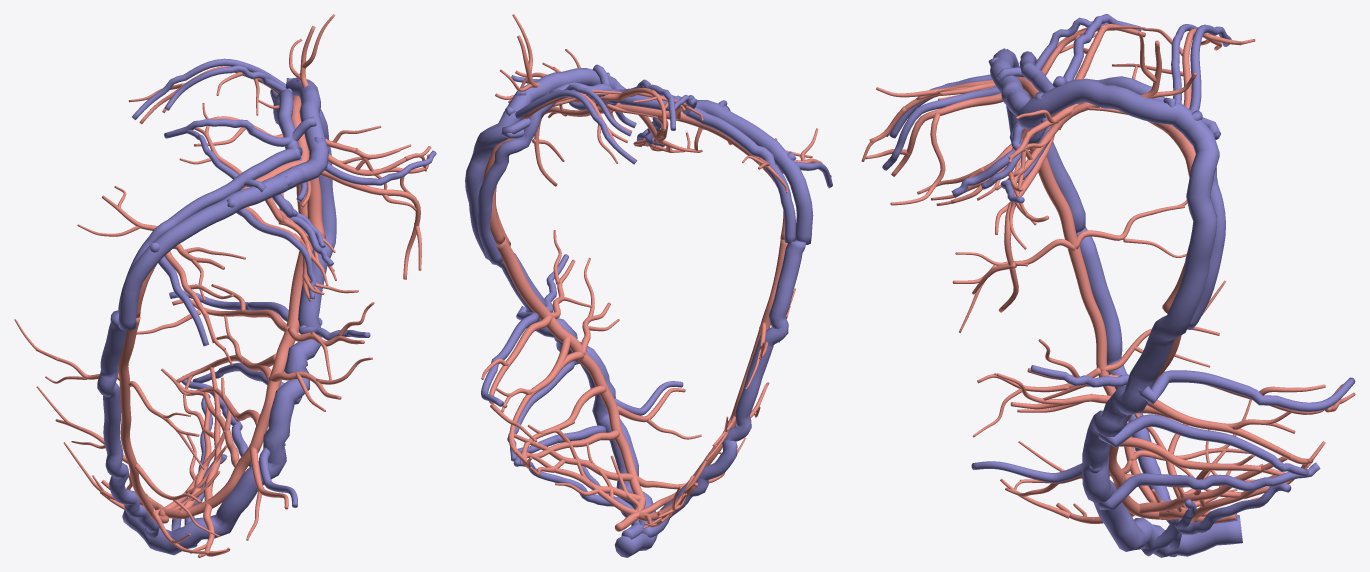
Rendered from vessels_74.glb.
The picture shows the model from 3 angles, left to right: view 1: azimuth 30°, elevation 25°; view 2: azimuth 150°, elevation 25°; view 3: azimuth 270°, elevation 25°; orthographic projection. The views are drawn at different scales.
Visible parts, largest first — view 1: Renderer Node; view 2: Renderer Node; view 3: Renderer Node.
Boxes of the visible parts, left/top/right/bottom form: Renderer Node: left=14, top=14, right=436, bottom=557; Renderer Node: left=465, top=14, right=832, bottom=557; Renderer Node: left=861, top=14, right=1355, bottom=557.
Bounding box in the file's own units: 88.97 × 124 × 90.6.
